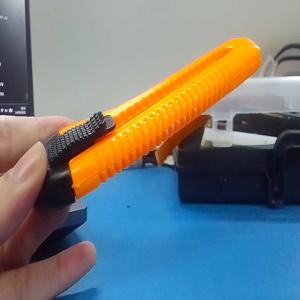estilete: (34, 37, 262, 211)
